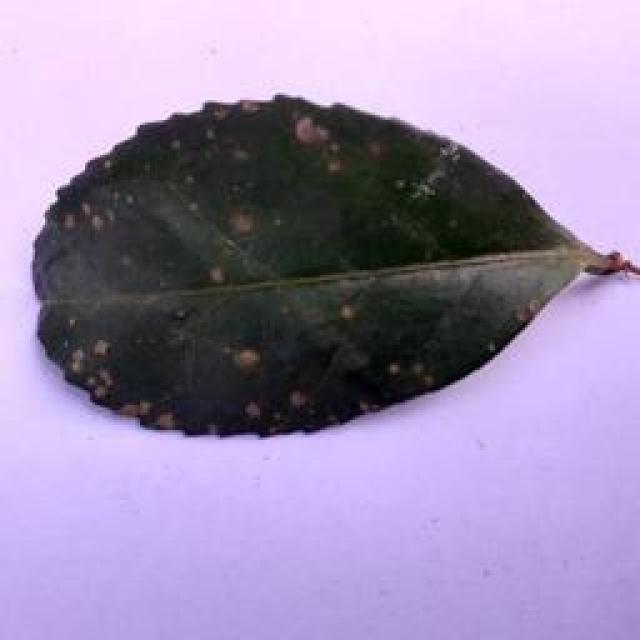Algal Leaf Spot: (20, 87, 634, 437)
